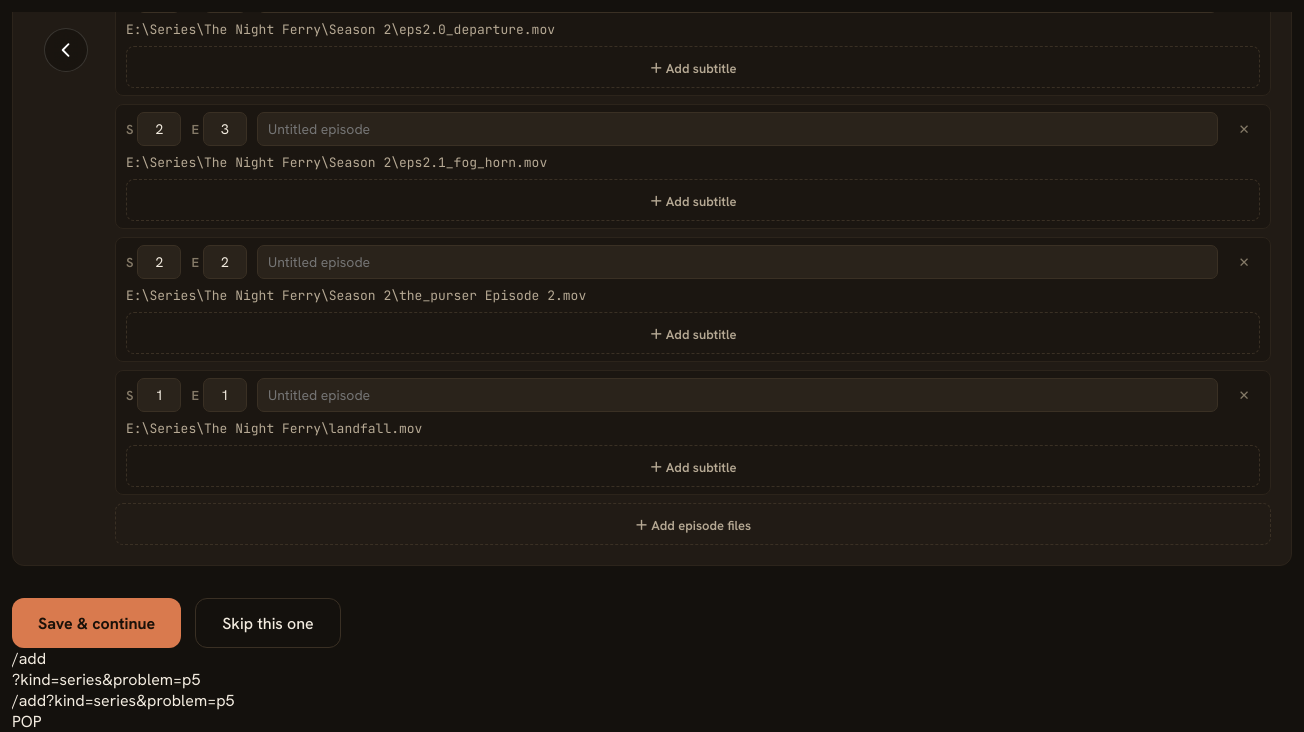
MovieForm — the Series Resolve, a show not yet held › lands on the review once the save is written
(page scrolled)
Click the button "Save & continue" at (97, 623), box [12,598,181,648]
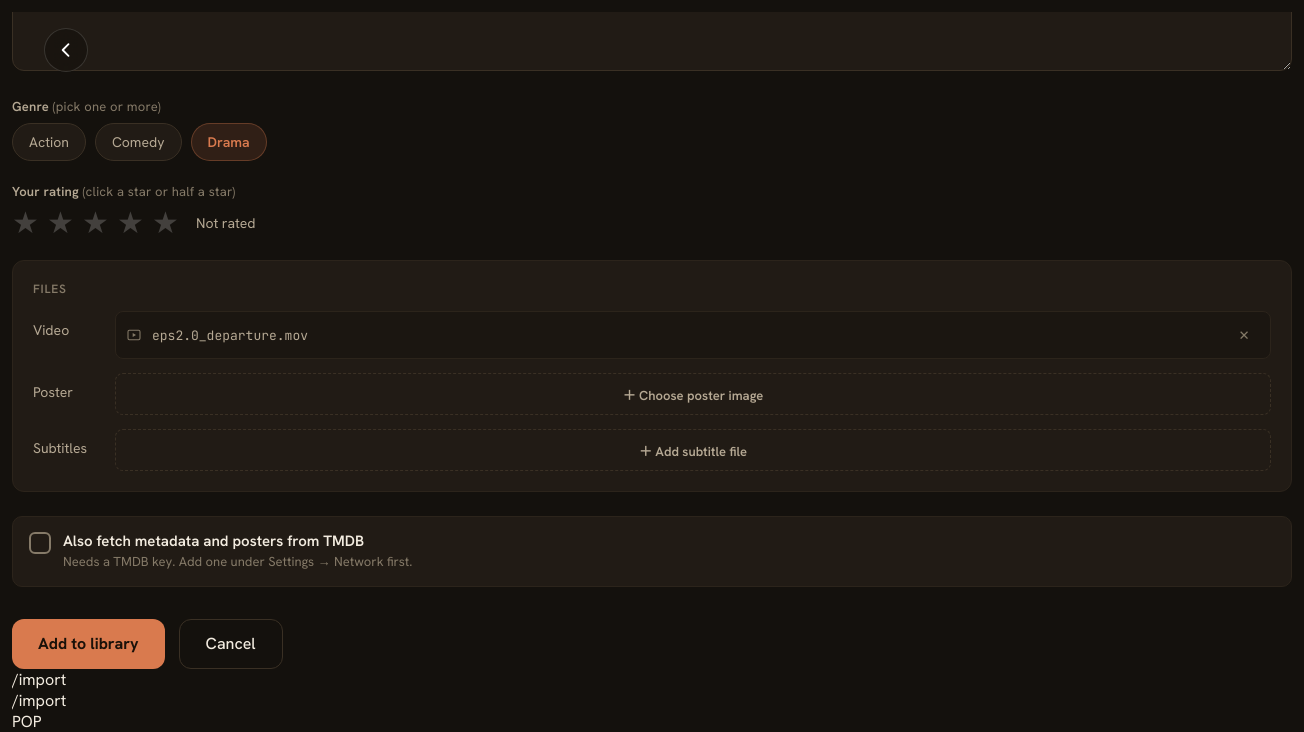
Expected: the text with test id "pathname" reads "/import", [12,669,66,690]
